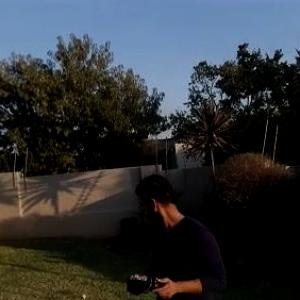follow: (124, 169, 232, 299)
